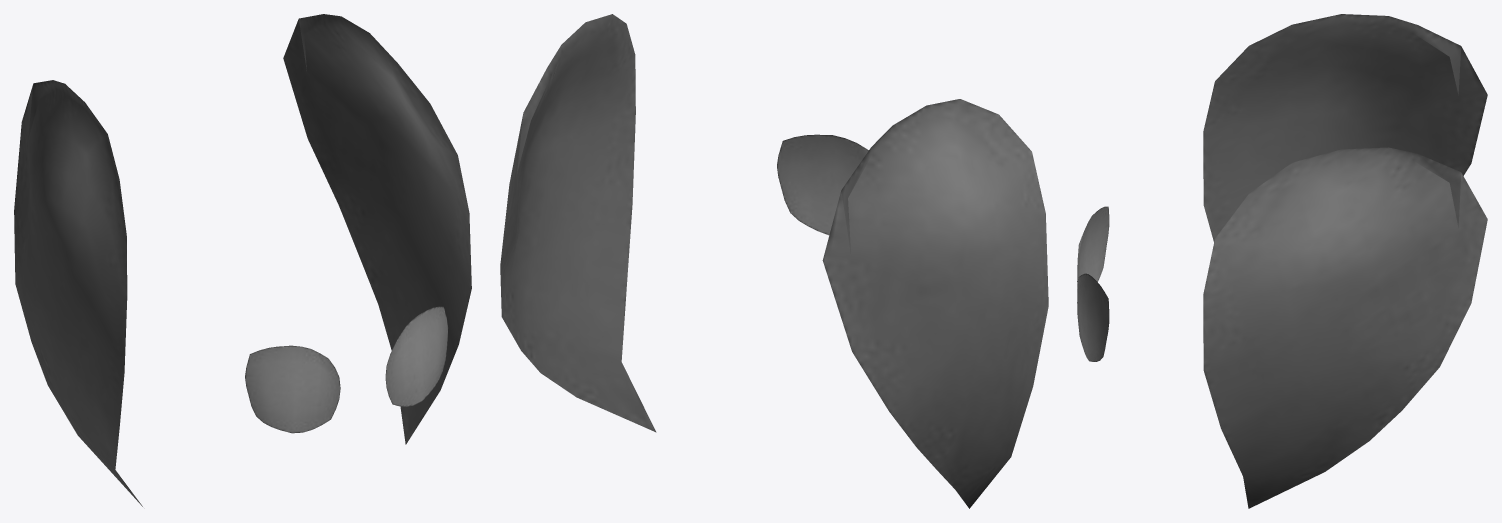
The model's file is head_highlight.obj.
3 views of the same model, side by side, from view 1: azimuth 30°, elevation 25°; view 2: azimuth 150°, elevation 25°; view 3: azimuth 270°, elevation 25° (orthographic). The views are drawn at different scales.
Parts seen in each view (by area): view 1: head_highlight.obj; view 2: head_highlight.obj; view 3: head_highlight.obj.
Part boxes in pixels (x1=…): head_highlight.obj: x1=14, y1=14, x2=471, y2=506; head_highlight.obj: x1=500, y1=14, x2=1048, y2=508; head_highlight.obj: x1=1077, y1=14, x2=1487, y2=508.
Size of the model in its own units: 0.1816 by 0.1798 by 0.1833.
Materials: 1 (1 with a texture image).
